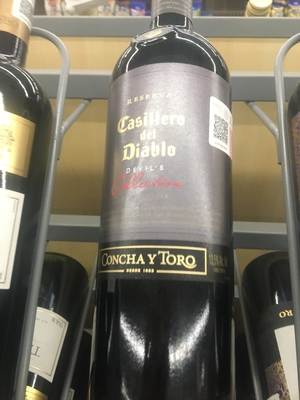casillero del diablo devils collection rojo: (99, 4, 248, 400)
